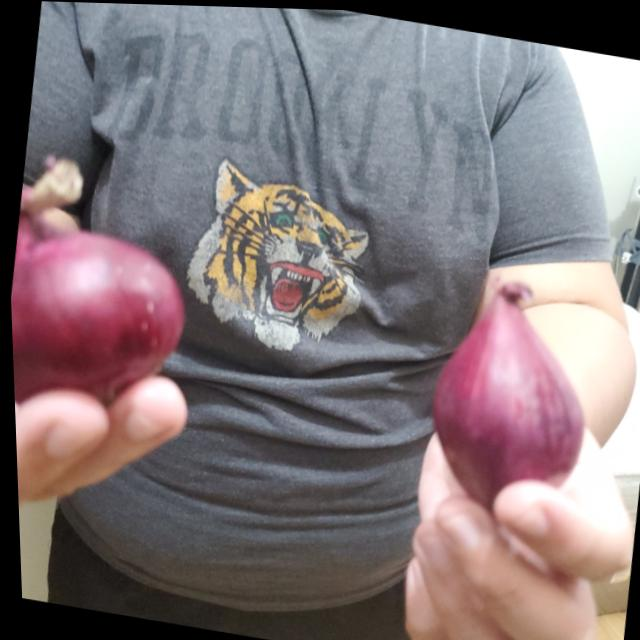onion: (5, 172, 203, 433), (416, 265, 603, 510)
